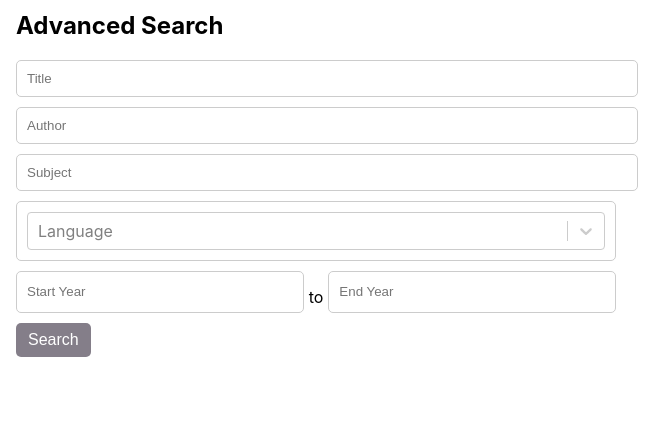
Test case: SearchPage › should render advanced search form and perform search
The width and height of the screenshot is (655, 440).
Type "Sample Title" into the field with placeholder "Title" at (327,78), box left=16, top=60, right=638, bottom=97
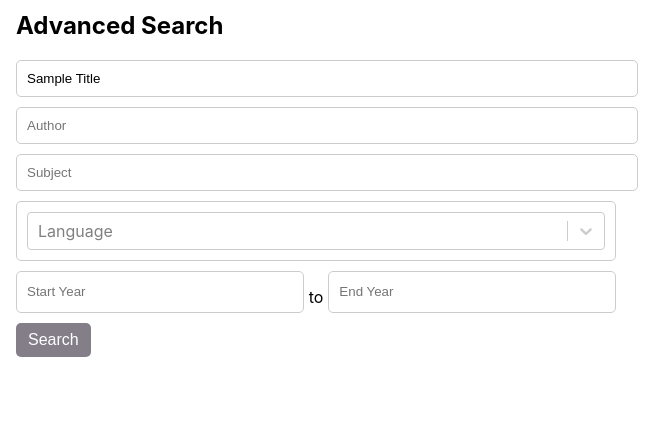
Type "John Doe" into the field with placeholder "Author" at (327,125), box left=16, top=107, right=638, bottom=144
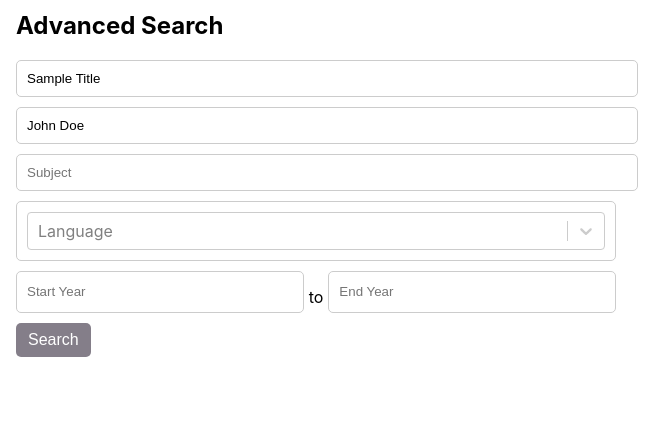
Type "Sample Subject" into the field with placeholder "Subject" at (327,172), box left=16, top=154, right=638, bottom=191
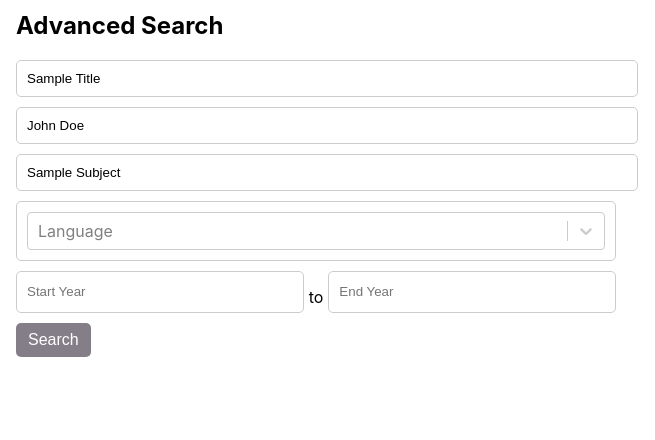
Type "2000" into the field with placeholder "Start Year" at (160,292), box left=16, top=271, right=304, bottom=313
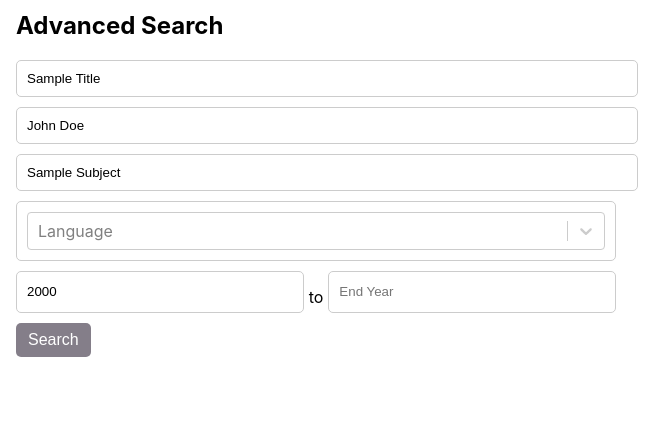
Type "2022" into the field with placeholder "End Year" at (472,292), box left=328, top=271, right=616, bottom=313
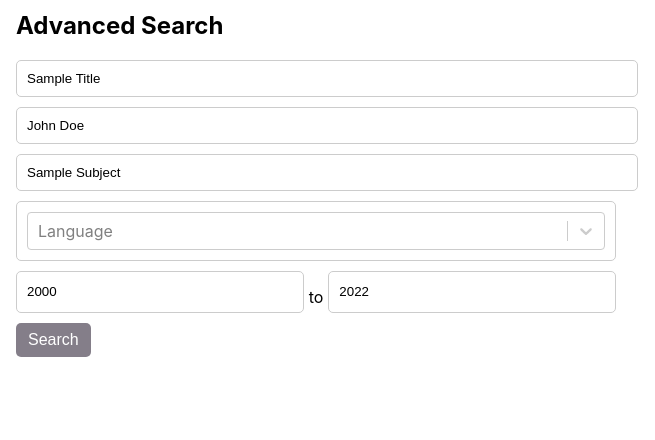
Click the button "Search" at (53,340), box left=16, top=323, right=91, bottom=357
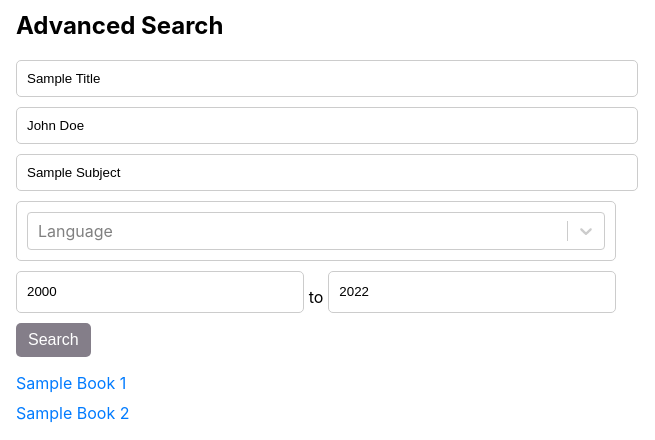
Expected: the link "Sample Book 1" is shown, left=16, top=373, right=126, bottom=393
Expected: the link "Sample Book 2" is shown, left=16, top=403, right=130, bottom=423
